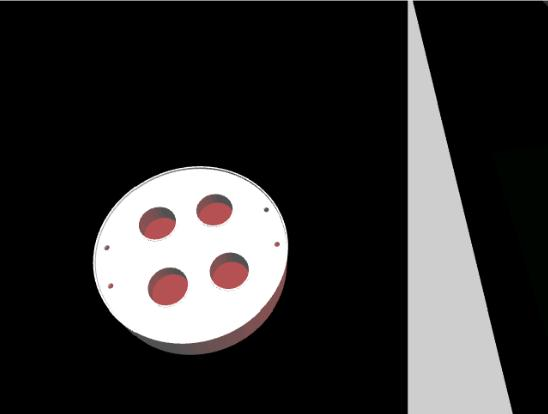hole: (142, 261, 194, 308), (130, 201, 185, 245), (206, 246, 252, 294), (193, 191, 237, 227)
